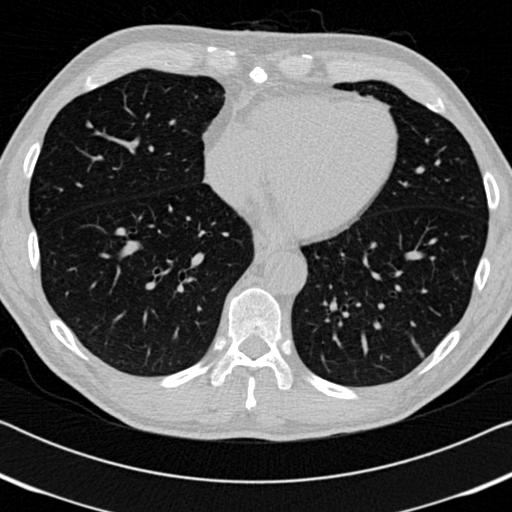nodule: (83, 119, 95, 131)
